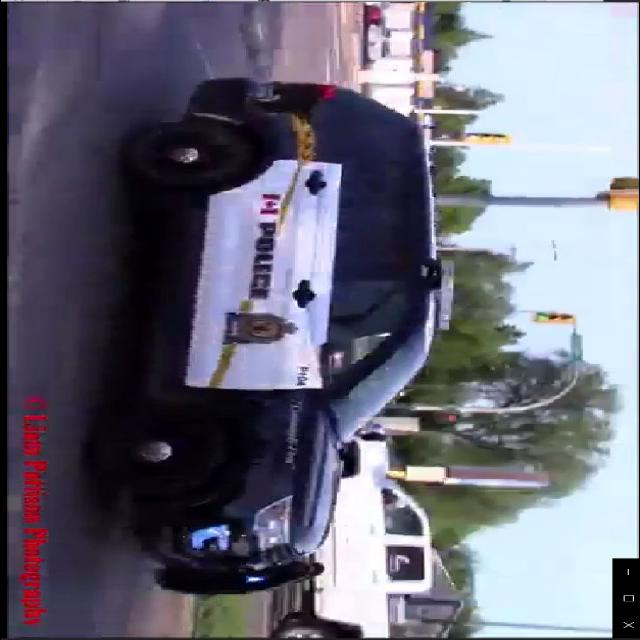emergency: (73, 66, 455, 593)
